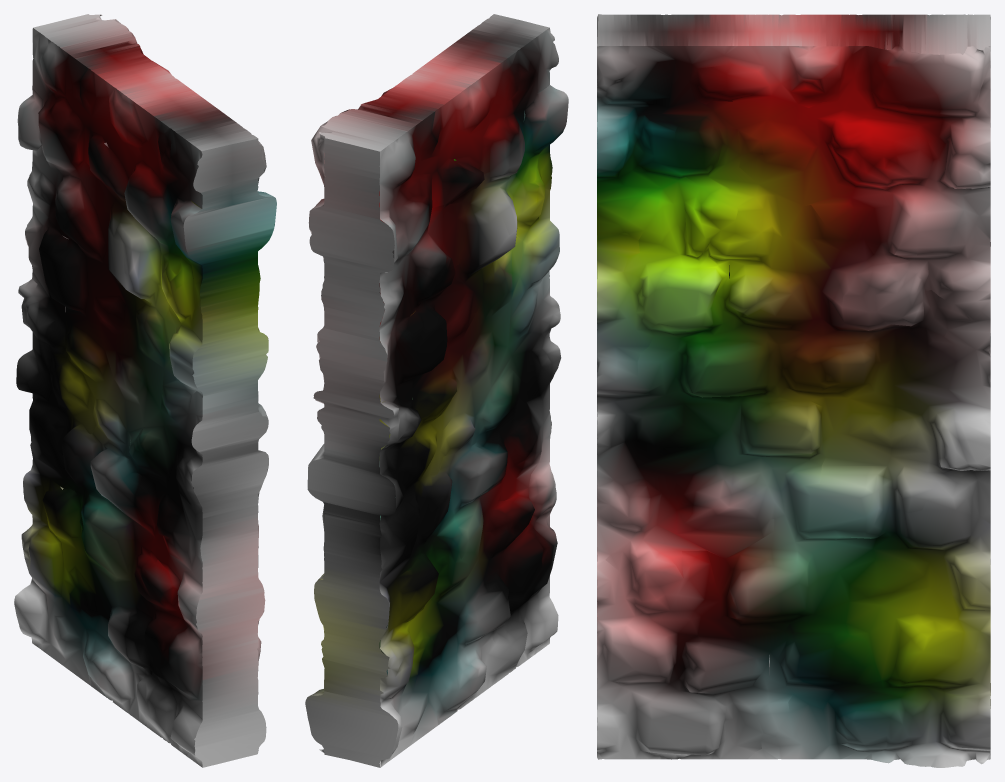
File: SM_CastleTower_Wall_A_02.fbx
3 views of the same model, side by side, from view 1: azimuth 30°, elevation 25°; view 2: azimuth 150°, elevation 25°; view 3: azimuth 270°, elevation 25° (orthographic). The views are drawn at different scales.
Parts seen in each view (by area): view 1: SM_CastleTower_Wall_A_02_LOD0; view 2: SM_CastleTower_Wall_A_02_LOD0; view 3: SM_CastleTower_Wall_A_02_LOD0.
Boxes of the visible parts, x1=… form: SM_CastleTower_Wall_A_02_LOD0: x1=14, y1=14, x2=276, y2=767; SM_CastleTower_Wall_A_02_LOD0: x1=305, y1=14, x2=568, y2=767; SM_CastleTower_Wall_A_02_LOD0: x1=597, y1=14, x2=990, y2=767.
Size of the model in its own units: 67.83 by 200 by 400.
